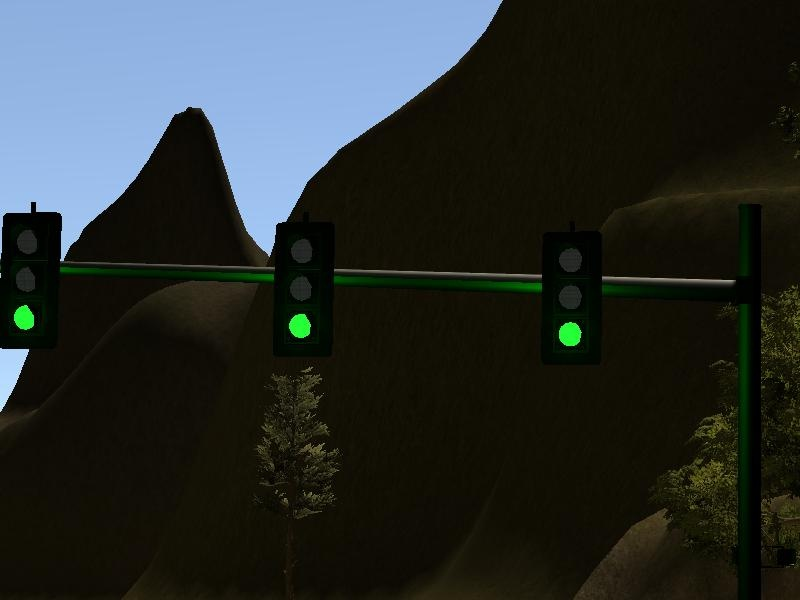Green: (540, 230, 602, 366), (274, 221, 334, 356), (1, 213, 61, 347)
